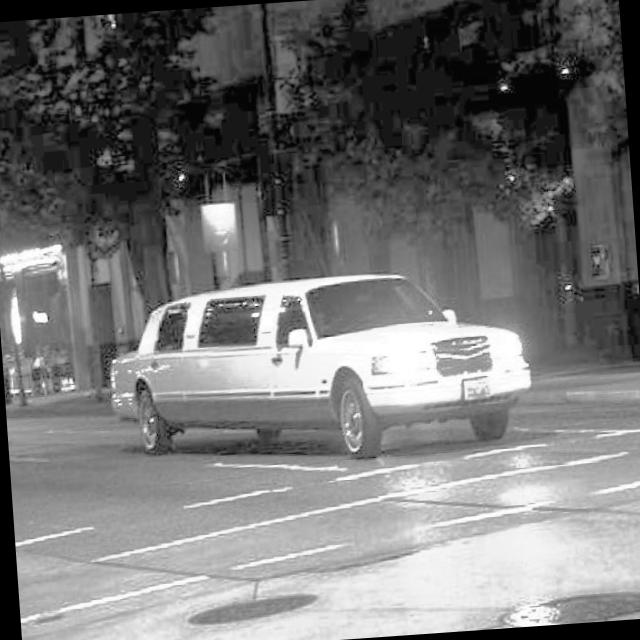Car: (51, 255, 536, 522)
